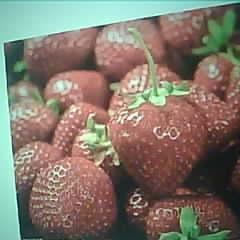straw-ripe: (112, 97, 206, 197), (30, 161, 118, 240)
